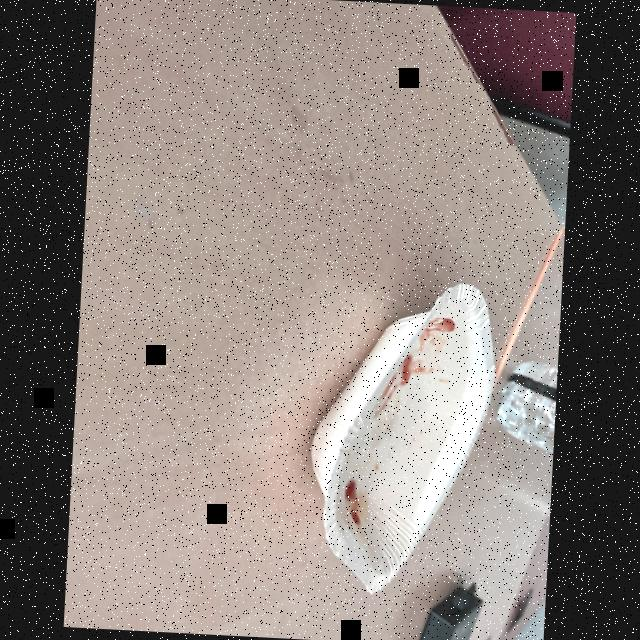cardboard_bowl: (286, 253, 518, 616)
